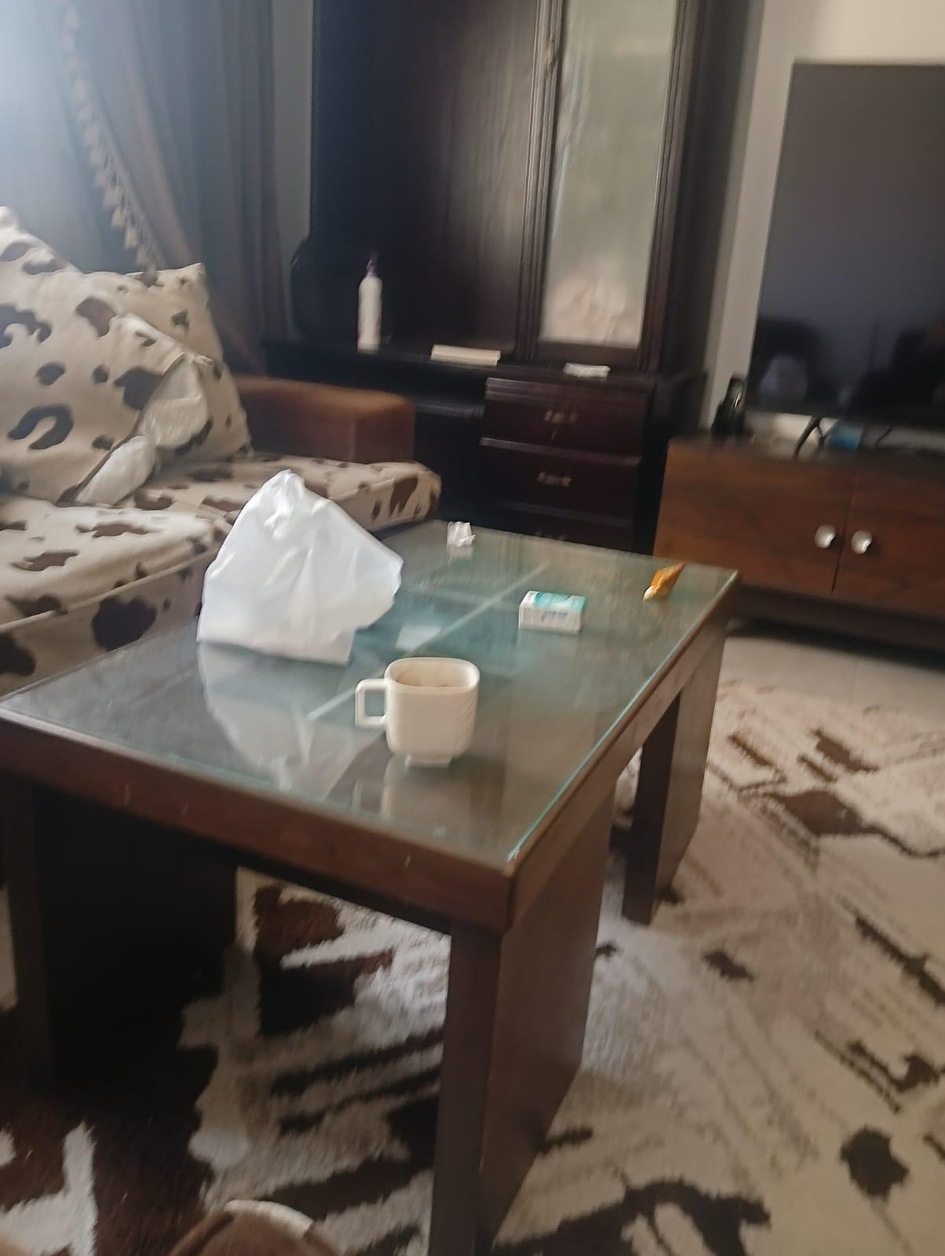cup: (356, 659, 480, 765)
